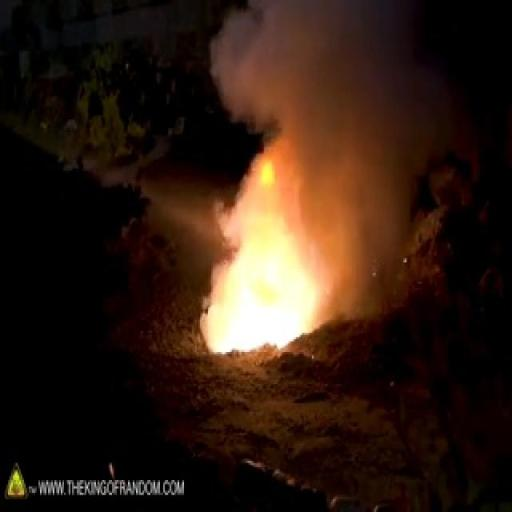smoke: (194, 184, 329, 356)
